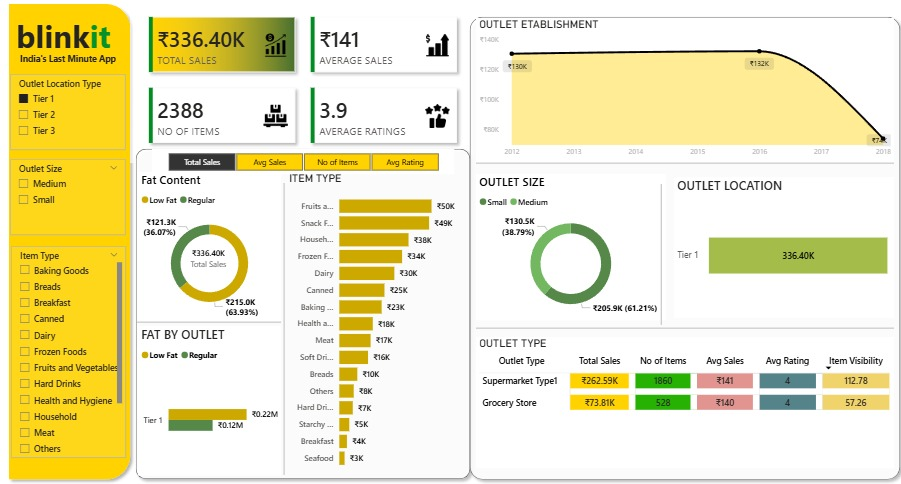

The dashboard page shown, as its layout file describes it:
{"tool":"powerbi","page":{"name":"Page 1","canvas":[1400,800],"ordinal":0},"visuals":[{"type":"shape","box":[10,0,205,750],"z":0},{"type":"textbox","box":[26.8,20.5,159.1,75.6],"z":1000},{"type":"textbox","box":[15.7,80.3,190.6,31.5],"z":2000},{"type":"cardVisual","fields":{"Data":["BlinkIT Grocery Data.Total Sales","BlinkIT Grocery Data.Avg Sales","BlinkIT Grocery Data.No of Items","BlinkIT Grocery Data.Avg Rating"]},"box":[206.3,0,532.3,253.5],"z":3000},{"type":"shape","box":[206.3,223.6,532.3,526],"z":4000},{"type":"donutChart","title":"Fat Content","fields":{"Y":["BlinkIT Grocery Data.Total Sales"],"Category":["BlinkIT Grocery Data.Item Fat Content"]},"box":[218.3,268.3,220,230],"z":5000},{"type":"slicer","fields":{"Values":["Metrics 3.Metrics"]},"box":[239.4,233.1,464.6,39.4],"z":6000},{"type":"cardVisual","fields":{"Data":["BlinkIT Grocery Data.Total Sales"]},"box":[268.3,365,118.3,71.7],"z":7000},{"type":"clusteredBarChart","title":"FAT BY OUTLET","fields":{"Y":["BlinkIT Grocery Data.Total Sales"],"Category":["BlinkIT Grocery Data.Outlet Location Type"],"Series":["BlinkIT Grocery Data.Item Fat Content"]},"box":[218.9,503.9,220.5,229.9],"z":8000},{"type":"shape","box":[216.7,455,221.7,86.7],"z":9000},{"type":"shape","box":[434.6,285,15.7,448.8],"z":10000},{"type":"barChart","title":"ITEM TYPE","fields":{"Y":["BlinkIT Grocery Data.Total Sales"],"Category":["BlinkIT Grocery Data.Item Type"]},"box":[445.7,267.7,274,466.1],"z":11000},{"type":"shape","box":[720,20,680,730],"z":12000},{"type":"lineChart","title":"OUTLET ETABLISHMENT","fields":{"Y":["BlinkIT Grocery Data.Total Sales"],"Category":["BlinkIT Grocery Data.Outlet Establishment Year"]},"box":[738.3,30,643.3,223.3],"z":13000},{"type":"donutChart","title":"OUTLET SIZE","fields":{"Y":["BlinkIT Grocery Data.Total Sales"],"Category":["BlinkIT Grocery Data.Outlet Size"]},"box":[738.3,270,291.7,225],"z":14000},{"type":"shape","box":[1016.7,286.7,13.3,216.7],"z":15000},{"type":"funnel","title":"OUTLET LOCATION","fields":{"Category":["BlinkIT Grocery Data.Outlet Location Type"],"Y":["Sum(BlinkIT Grocery Data.Sales)"]},"box":[1043.3,275,338.3,216.7],"z":16000},{"type":"shape","box":[738.3,465,643.3,86.7],"z":17000},{"type":"pivotTable","title":"OUTLET TYPE","fields":{"Rows":["BlinkIT Grocery Data.Outlet Type"],"Values":["BlinkIT Grocery Data.Total Sales","BlinkIT Grocery Data.No of Items","BlinkIT Grocery Data.Avg Sales","BlinkIT Grocery Data.Avg Rating","Sum(BlinkIT Grocery Data.Item Visibility)"]},"box":[738.3,521.7,643.3,201.7],"z":18000},{"type":"shape","box":[738.3,210,643.3,86.7],"z":19000},{"type":"slicer","fields":{"Values":["BlinkIT Grocery Data.Outlet Location Type"]},"box":[21.7,116.7,178.3,116.7],"z":20000},{"type":"slicer","fields":{"Values":["BlinkIT Grocery Data.Outlet Size"]},"box":[21.7,248.3,178.3,116.7],"z":21000},{"type":"slicer","fields":{"Values":["BlinkIT Grocery Data.Item Type"]},"box":[23.3,381.7,176.7,341.7],"z":22000}]}

Visuals, with their boxes on the page's 1400x800 design canvas (x1, y1, x2, y2). These are canvas units, not pixel positions in the 901x484 screenshot, which may show the page scaled, cropped or inside an application window:
shape: [x1=10, y1=0, x2=215, y2=750]
textbox: [x1=27, y1=20, x2=186, y2=96]
textbox: [x1=16, y1=80, x2=206, y2=112]
cardVisual - BlinkIT Grocery Data.Total Sales x BlinkIT Grocery Data.Avg Sales: [x1=206, y1=0, x2=739, y2=254]
shape: [x1=206, y1=224, x2=739, y2=750]
"Fat Content" donutChart: [x1=218, y1=268, x2=438, y2=498]
slicer - Metrics 3.Metrics: [x1=239, y1=233, x2=704, y2=272]
cardVisual - BlinkIT Grocery Data.Total Sales: [x1=268, y1=365, x2=387, y2=437]
"FAT BY OUTLET" clusteredBarChart: [x1=219, y1=504, x2=439, y2=734]
shape: [x1=217, y1=455, x2=438, y2=542]
shape: [x1=435, y1=285, x2=450, y2=734]
"ITEM TYPE" barChart: [x1=446, y1=268, x2=720, y2=734]
shape: [x1=720, y1=20, x2=1400, y2=750]
"OUTLET ETABLISHMENT" lineChart: [x1=738, y1=30, x2=1382, y2=253]
"OUTLET SIZE" donutChart: [x1=738, y1=270, x2=1030, y2=495]
shape: [x1=1017, y1=287, x2=1030, y2=503]
"OUTLET LOCATION" funnel: [x1=1043, y1=275, x2=1382, y2=492]
shape: [x1=738, y1=465, x2=1382, y2=552]
"OUTLET TYPE" pivotTable: [x1=738, y1=522, x2=1382, y2=723]
shape: [x1=738, y1=210, x2=1382, y2=297]
slicer - BlinkIT Grocery Data.Outlet Location Type: [x1=22, y1=117, x2=200, y2=233]
slicer - BlinkIT Grocery Data.Outlet Size: [x1=22, y1=248, x2=200, y2=365]
slicer - BlinkIT Grocery Data.Item Type: [x1=23, y1=382, x2=200, y2=723]
